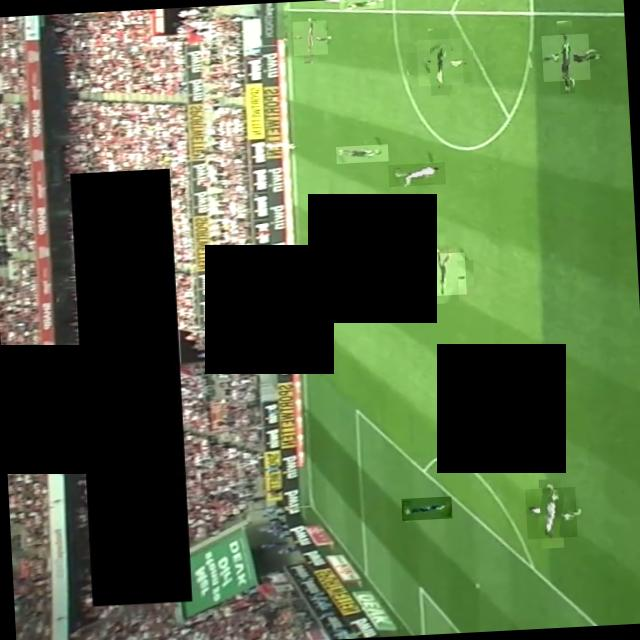ball: (334, 240, 349, 248)
goalkeeper: (402, 495, 452, 520)
soccer-player: (525, 486, 578, 538), (542, 33, 590, 81), (416, 38, 464, 86), (422, 252, 467, 296), (388, 161, 446, 186), (292, 19, 328, 55), (336, 143, 389, 163), (314, 244, 342, 273), (339, 0, 384, 9)
